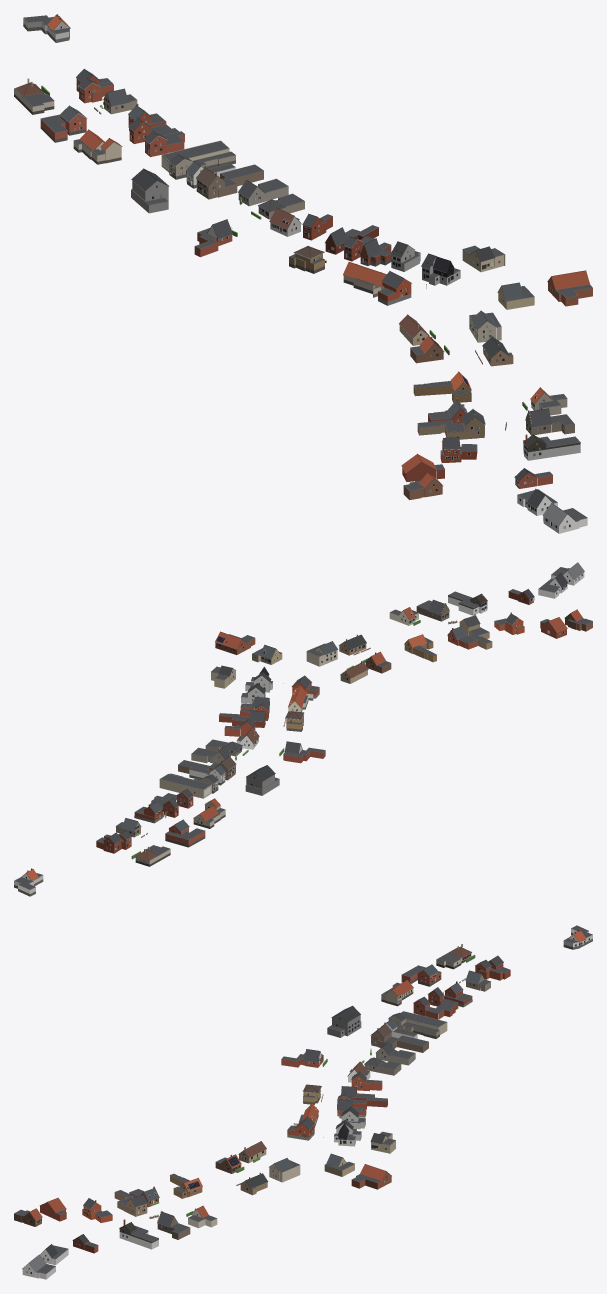
Rendered from kapellenhoek.glb.
3 renders of one model, top to bottom at view 1: azimuth 30°, elevation 25°; view 2: azimuth 150°, elevation 25°; view 3: azimuth 330°, elevation 25°, orthographic. The views are drawn at different scales.
Parts seen in each view (by area): view 1: mh_brick, mh_roof, mh_stone, mh_render, mh_detail_m, mh_glass, mh_detail_e; view 2: mh_brick, mh_roof, mh_stone, mh_render, mh_detail_e, mh_detail_m, mh_glass; view 3: mh_brick, mh_roof, mh_stone, mh_render, mh_glass, mh_detail_m, mh_detail_e.
Boxes of the visible parts, x1,y1,x2,y2 form: mh_brick: (14, 15, 592, 499); mh_roof: (16, 15, 589, 525); mh_stone: (14, 14, 592, 521); mh_render: (23, 18, 587, 533); mh_detail_m: (101, 131, 500, 297); mh_glass: (60, 26, 570, 528); mh_detail_e: (399, 270, 586, 531); mh_brick: (27, 592, 592, 872); mh_roof: (26, 563, 584, 880); mh_stone: (14, 567, 592, 896); mh_render: (14, 571, 584, 893); mh_detail_e: (215, 562, 583, 680); mh_detail_m: (176, 665, 311, 809); mh_glass: (26, 574, 582, 878); mh_brick: (14, 930, 579, 1253); mh_roof: (29, 930, 586, 1271); mh_stone: (14, 925, 592, 1273); mh_render: (22, 928, 592, 1279); mh_glass: (26, 938, 589, 1273); mh_detail_m: (295, 987, 430, 1149); mh_detail_e: (22, 1141, 391, 1273).
Bounding box in the file's own units: 183 × 25.45 × 599.
